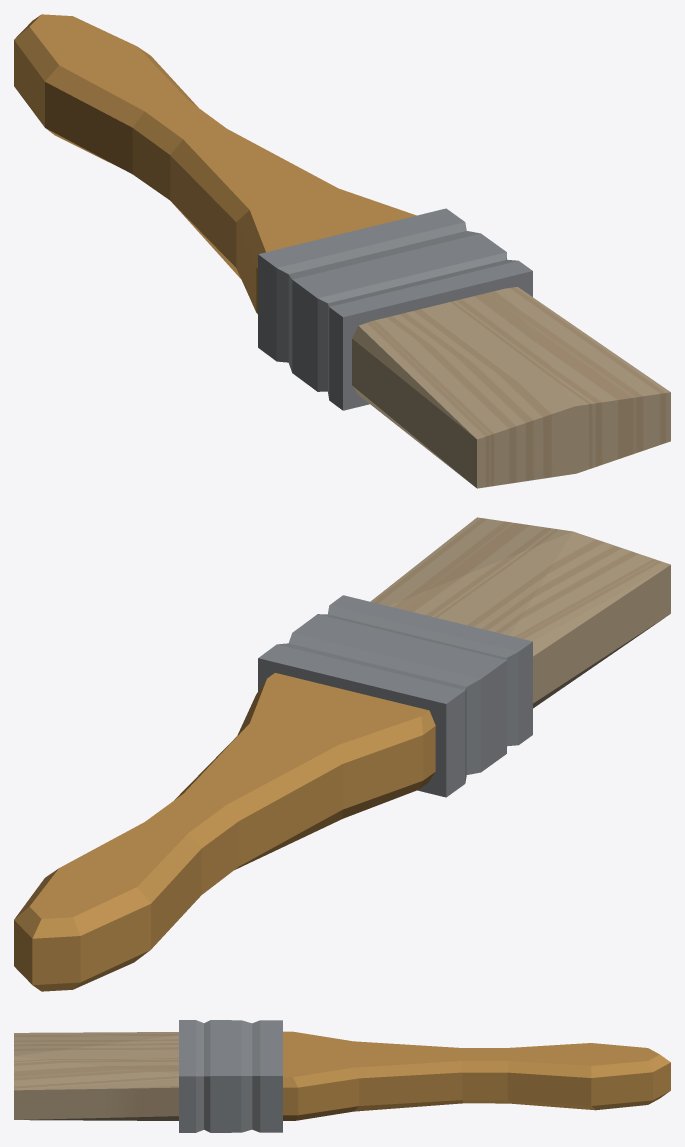
The model's file is SM_Item_Paint_Brush_01.fbx.
The picture shows the model from 3 angles, top to bottom: view 1: azimuth 30°, elevation 25°; view 2: azimuth 150°, elevation 25°; view 3: azimuth 270°, elevation 25°; orthographic projection. The views are drawn at different scales.
Visible parts, largest first — view 1: SM_Item_Paint_Brush_01; view 2: SM_Item_Paint_Brush_01; view 3: SM_Item_Paint_Brush_01.
Part boxes in pixels (left/top/right/bottom): SM_Item_Paint_Brush_01: left=14, top=14, right=670, bottom=488; SM_Item_Paint_Brush_01: left=14, top=517, right=670, bottom=991; SM_Item_Paint_Brush_01: left=14, top=1020, right=670, bottom=1132.
Size of the model in its own units: 9.17 by 4.23 by 44.37.
